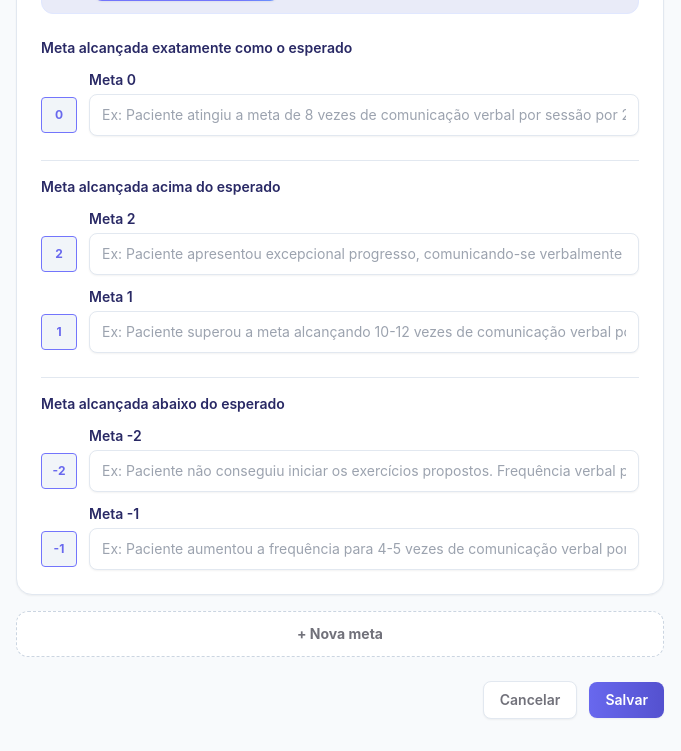
Test: App - Integration Tests › 3. Botão Deletar Meta (quando 2+ metas) › deve exibir botão de deletar quando há 2 ou mais metas
(page scrolled)
Note: Adiciona segunda meta
Click the button "+ Nova meta" at (340, 634), box 16,611 -> 664,657
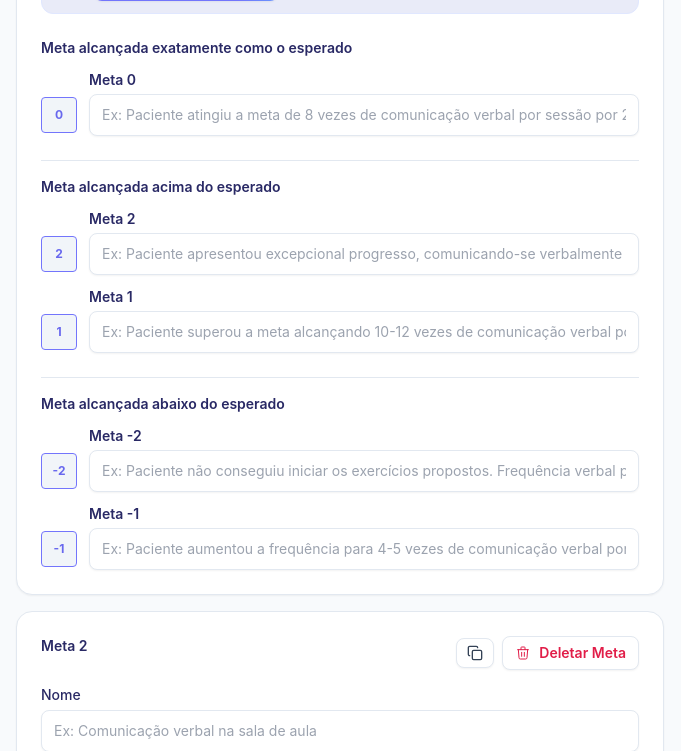
Expected: the button "Deletar Meta" is shown, 502,636 -> 639,670
